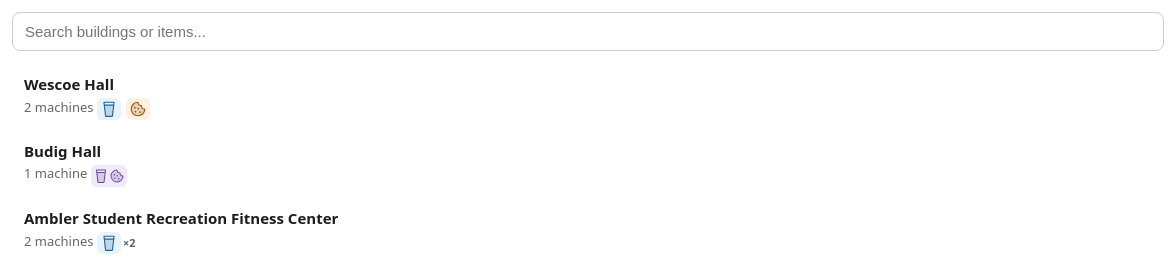
Test: BuildingList › still finds a machine-less building by name when searching
In the search field: (588, 32) [12,12,1164,51], type "anschutz"
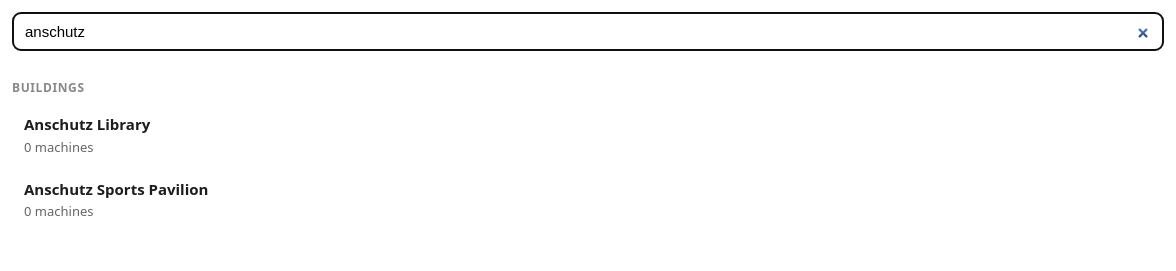
Check: the link "Anschutz Library 0 machines" is shown, box [24,114,150,156]
